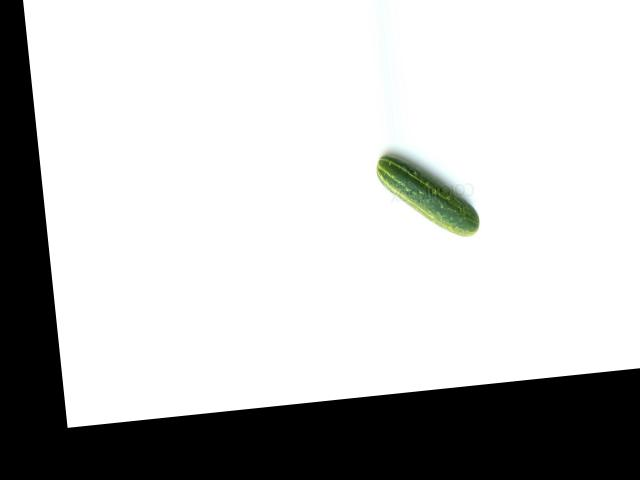cucumber: (373, 146, 480, 245)
